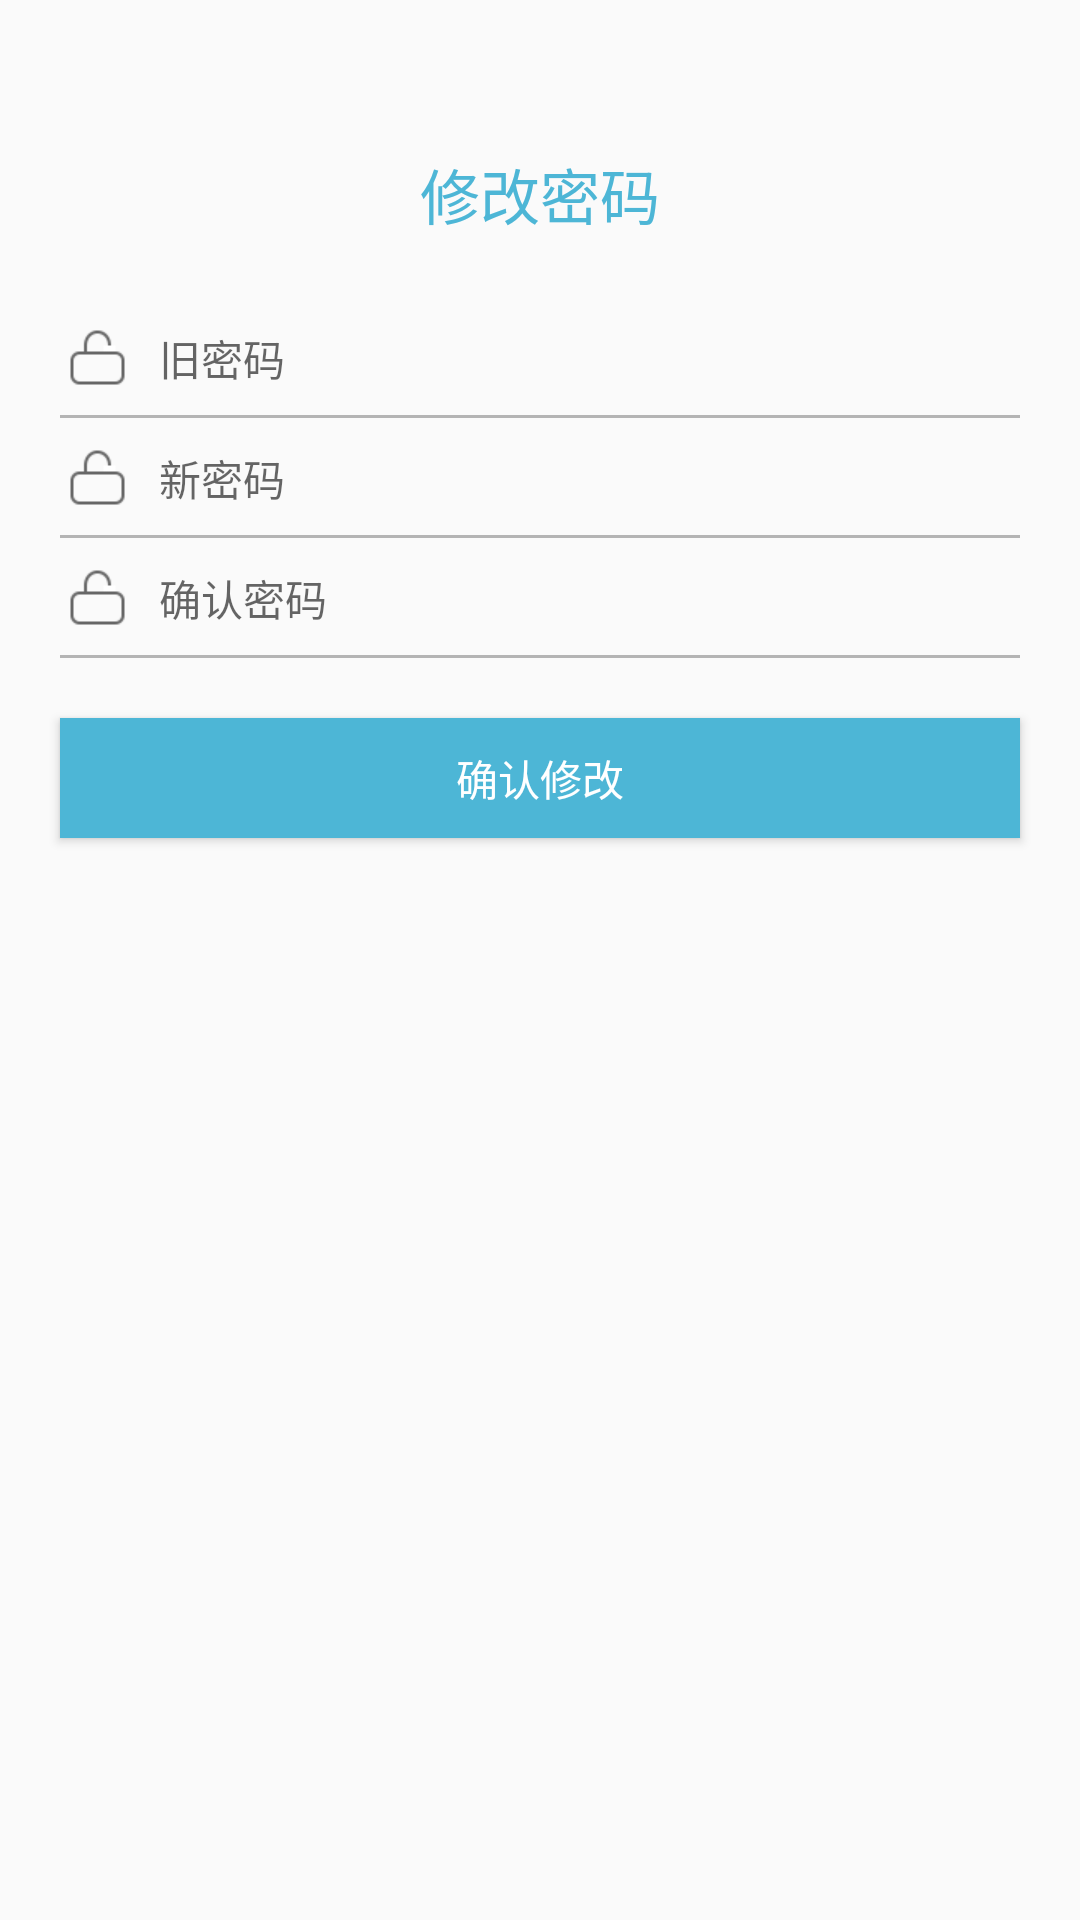

Icon bounding boxes for this 1080px x 1920px phone screenshot, format (x1, y1, x2, y2):
register password: (70, 330, 125, 385), (70, 450, 125, 505), (70, 570, 125, 625)
